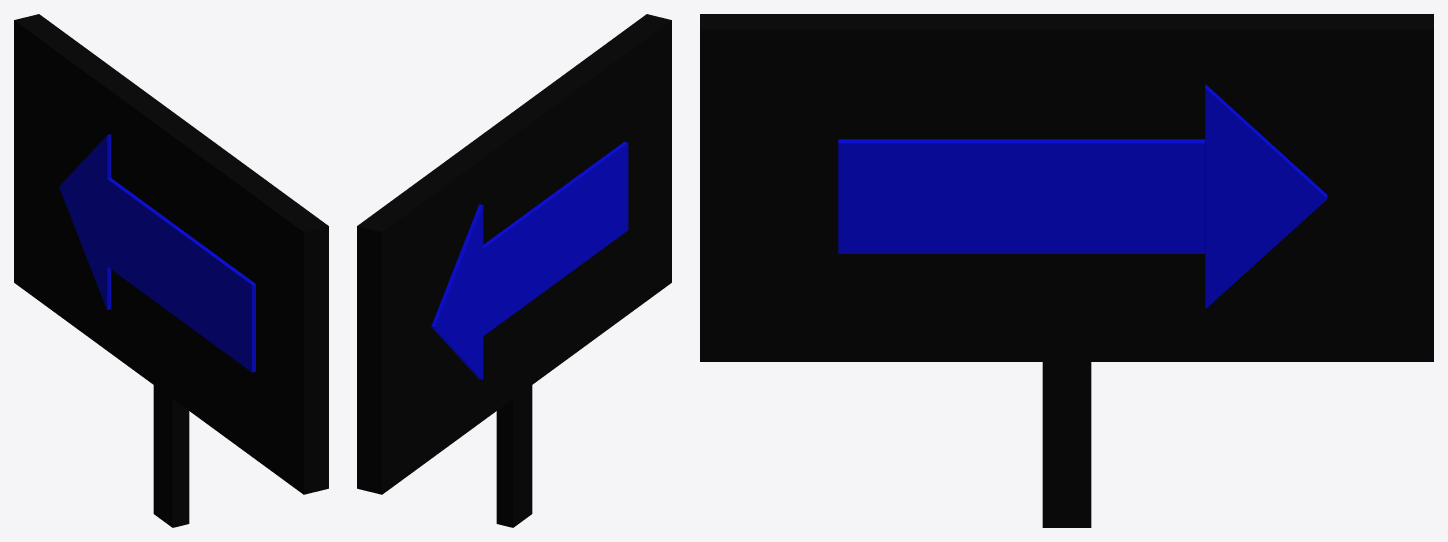
File: SignPost.fbx
The picture shows the model from 3 angles, left to right: view 1: azimuth 30°, elevation 25°; view 2: azimuth 150°, elevation 25°; view 3: azimuth 270°, elevation 25°; orthographic projection. The views are drawn at different scales.
Visible parts, largest first — view 1: Cube.001, Cube.004, Cube.005, Cube; view 2: Cube.001, Cube.004, Cube.005, Cube; view 3: Cube.001, Cube.002, Cube.003, Cube.
Boxes of the visible parts, bbox=[...] form: Cube.001: bbox=[14, 14, 328, 494]; Cube.004: bbox=[107, 178, 255, 372]; Cube.005: bbox=[59, 134, 111, 309]; Cube: bbox=[153, 385, 189, 527]; Cube.001: bbox=[357, 14, 671, 494]; Cube.004: bbox=[483, 142, 628, 335]; Cube.005: bbox=[431, 204, 483, 379]; Cube: bbox=[496, 385, 532, 527]; Cube.001: bbox=[700, 14, 1433, 361]; Cube.002: bbox=[838, 139, 1204, 253]; Cube.003: bbox=[1205, 84, 1327, 308]; Cube: bbox=[1042, 362, 1091, 527].
Size of the model in its own units: 42.42 by 452 by 600.
